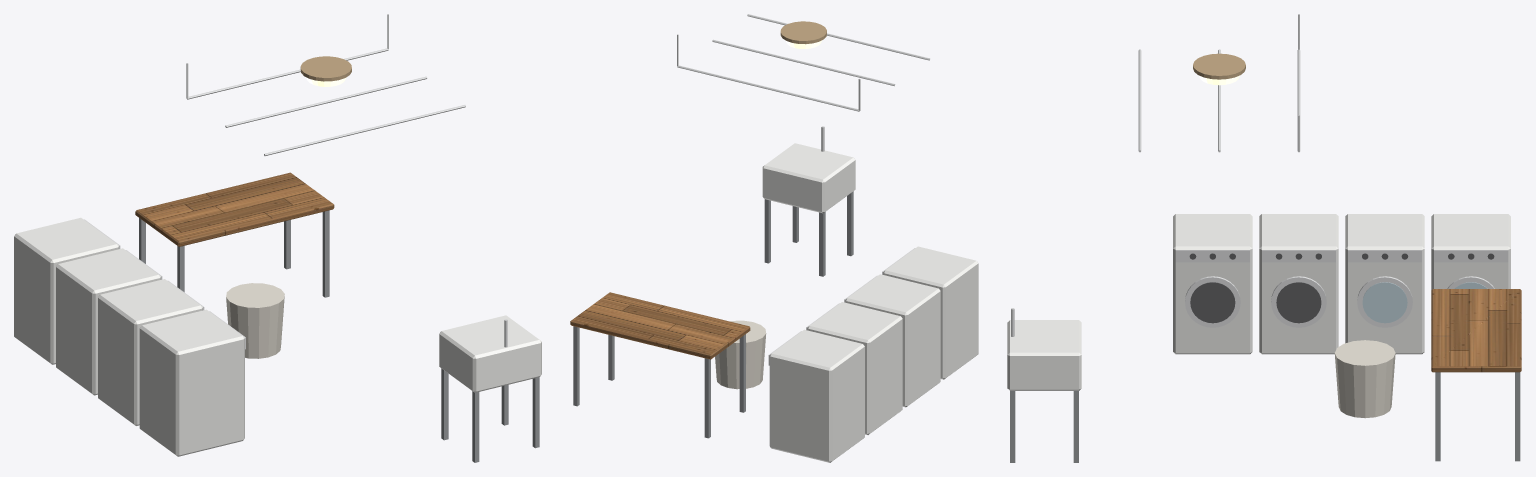
File: laundry_r.glb
3 views of the same model, side by side, from view 1: azimuth 30°, elevation 25°; view 2: azimuth 150°, elevation 25°; view 3: azimuth 270°, elevation 25° (orthographic). The views are drawn at different scales.
Visible parts, largest first — view 1: laundry_r_appliance, laundry_r_wood, laundry_r_porcelain, laundry_r_steel, laundry_r_cloth, laundry_r_chrome, laundry_r_bronze; view 2: laundry_r_appliance, laundry_r_wood, laundry_r_porcelain, laundry_r_steel, laundry_r_cloth, laundry_r_chrome, laundry_r_bronze; view 3: laundry_r_appliance, laundry_r_chrome, laundry_r_wood, laundry_r_porcelain, laundry_r_cloth, laundry_r_dark, laundry_r_steel, laundry_r_glass, laundry_r_bronze.
Part boxes in pixels (x1,y1,x2,y2): laundry_r_appliance: (14, 217, 244, 456); laundry_r_wood: (135, 172, 334, 246); laundry_r_porcelain: (439, 315, 541, 392); laundry_r_steel: (139, 210, 539, 462); laundry_r_cloth: (226, 283, 284, 358); laundry_r_chrome: (84, 14, 507, 349); laundry_r_bronze: (300, 56, 351, 81); laundry_r_appliance: (769, 246, 978, 462); laundry_r_wood: (570, 292, 750, 359); laundry_r_porcelain: (762, 143, 855, 213); laundry_r_steel: (573, 191, 853, 438); laundry_r_cloth: (715, 320, 766, 389); laundry_r_chrome: (677, 14, 929, 365); laundry_r_bronze: (780, 21, 826, 44); laundry_r_appliance: (1173, 214, 1510, 354); laundry_r_chrome: (1011, 14, 1508, 336); laundry_r_wood: (1431, 289, 1521, 372); laundry_r_porcelain: (1007, 320, 1081, 390); laundry_r_cloth: (1334, 340, 1395, 418); laundry_r_dark: (1189, 253, 1494, 323); laundry_r_steel: (1010, 372, 1520, 462); laundry_r_glass: (1362, 282, 1487, 323); laundry_r_bronze: (1193, 53, 1245, 79).
Size of the model in its own units: 2.56 by 2.85 by 3.88.
10 materials, 1 textured.
